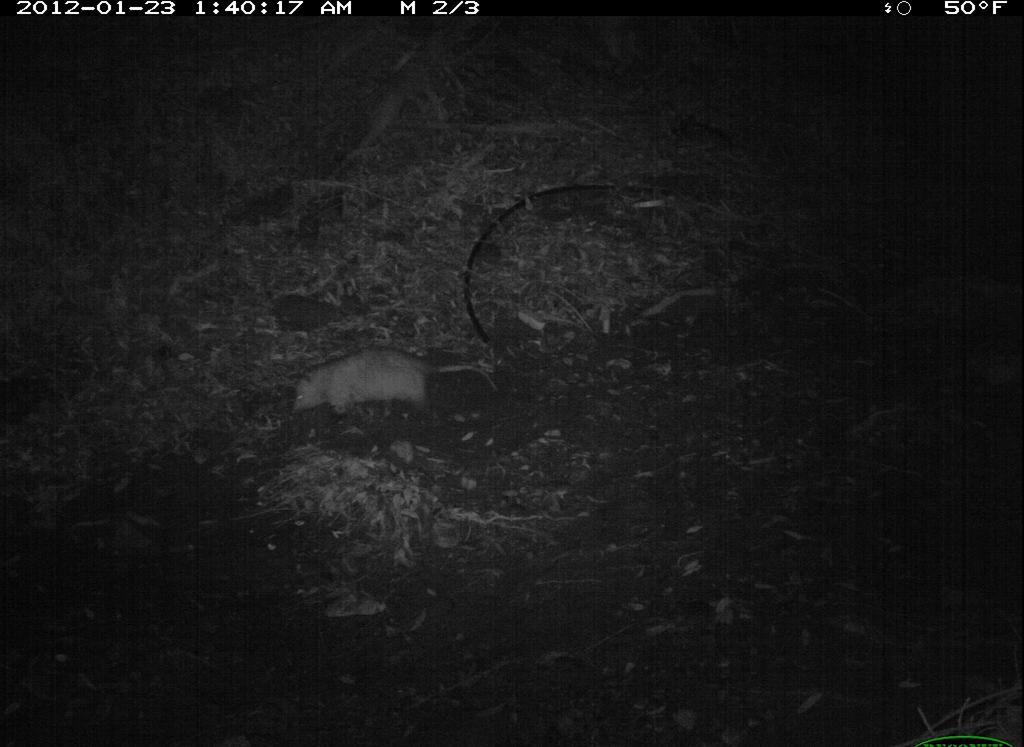opossum: (277, 336, 507, 434)
